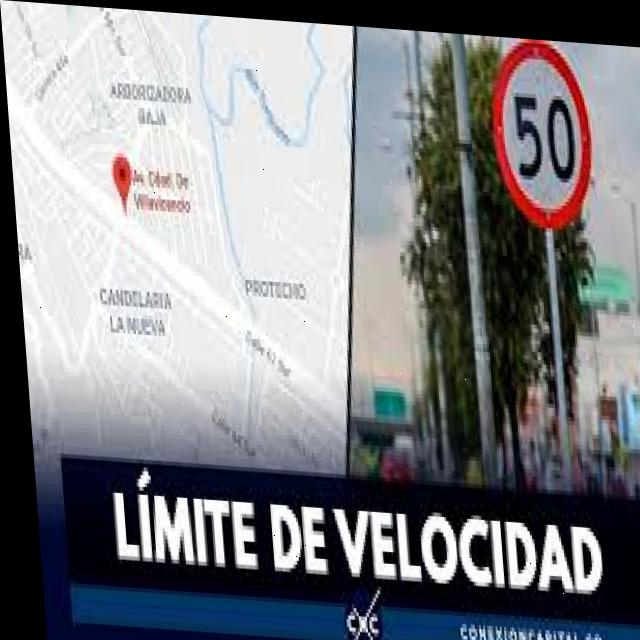Speed limit 50: (483, 29, 598, 227)
